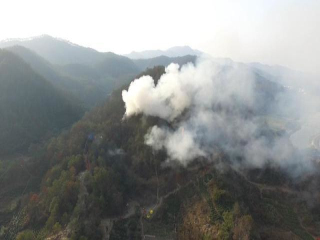smoke: (122, 49, 313, 173)
